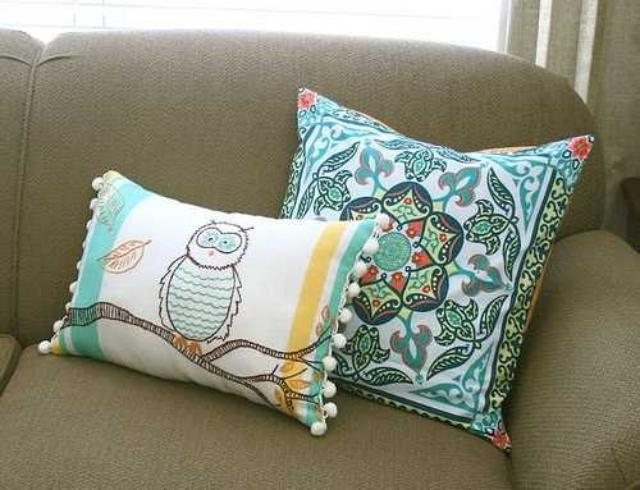pillow: (278, 86, 594, 453), (37, 168, 377, 436)
